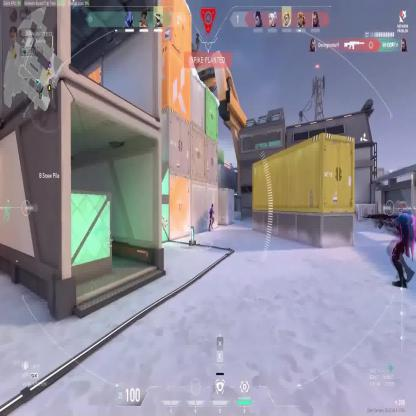enemy: (209, 202, 215, 233)
enemy_head: (211, 203, 214, 209)
